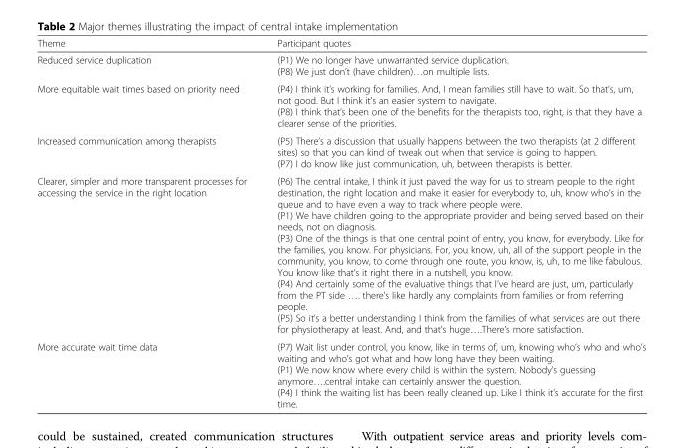table: (36, 37, 645, 408)
table column: (261, 37, 645, 408), (36, 37, 261, 408)
table column header: (36, 37, 645, 51)
table row: (36, 171, 645, 337), (36, 337, 645, 408), (36, 79, 645, 131), (36, 131, 645, 171), (36, 51, 645, 79), (36, 37, 645, 51)
